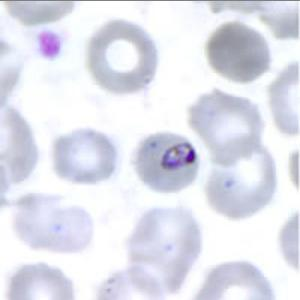Infected: (132, 132, 198, 195)
Uninfected: (127, 206, 200, 295), (207, 136, 277, 221), (188, 87, 262, 167), (87, 19, 156, 94), (11, 192, 93, 252), (205, 23, 270, 82), (50, 127, 117, 184)
